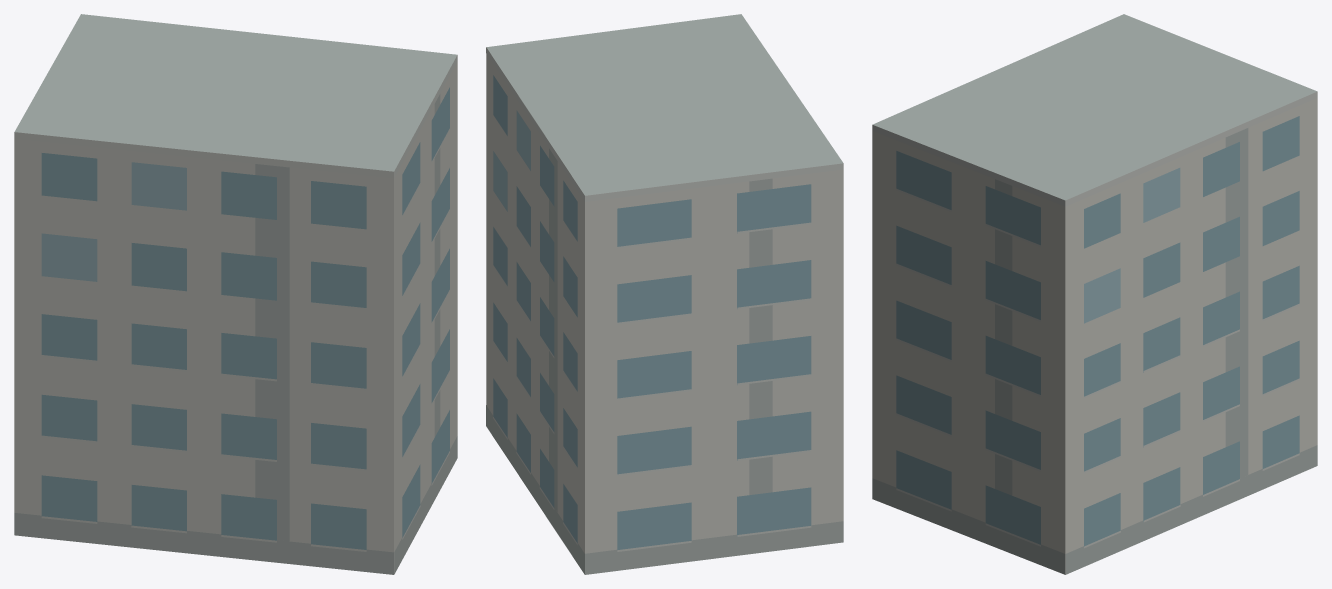
The model's file is survey-upis-32886809.glb.
The picture shows the model from 3 angles, left to right: view 1: azimuth 30°, elevation 25°; view 2: azimuth 150°, elevation 25°; view 3: azimuth 270°, elevation 25°; orthographic projection. The views are drawn at different scales.
Visible parts, largest first — view 1: survey-upis-32886809.tmp; view 2: survey-upis-32886809.tmp; view 3: survey-upis-32886809.tmp.
Boxes of the visible parts, x1,y1,x2,y2 form: survey-upis-32886809.tmp: [14, 14, 457, 574]; survey-upis-32886809.tmp: [486, 14, 843, 574]; survey-upis-32886809.tmp: [872, 14, 1317, 574].
Size of the model in its own units: 15.61 by 14.6 by 15.74.
